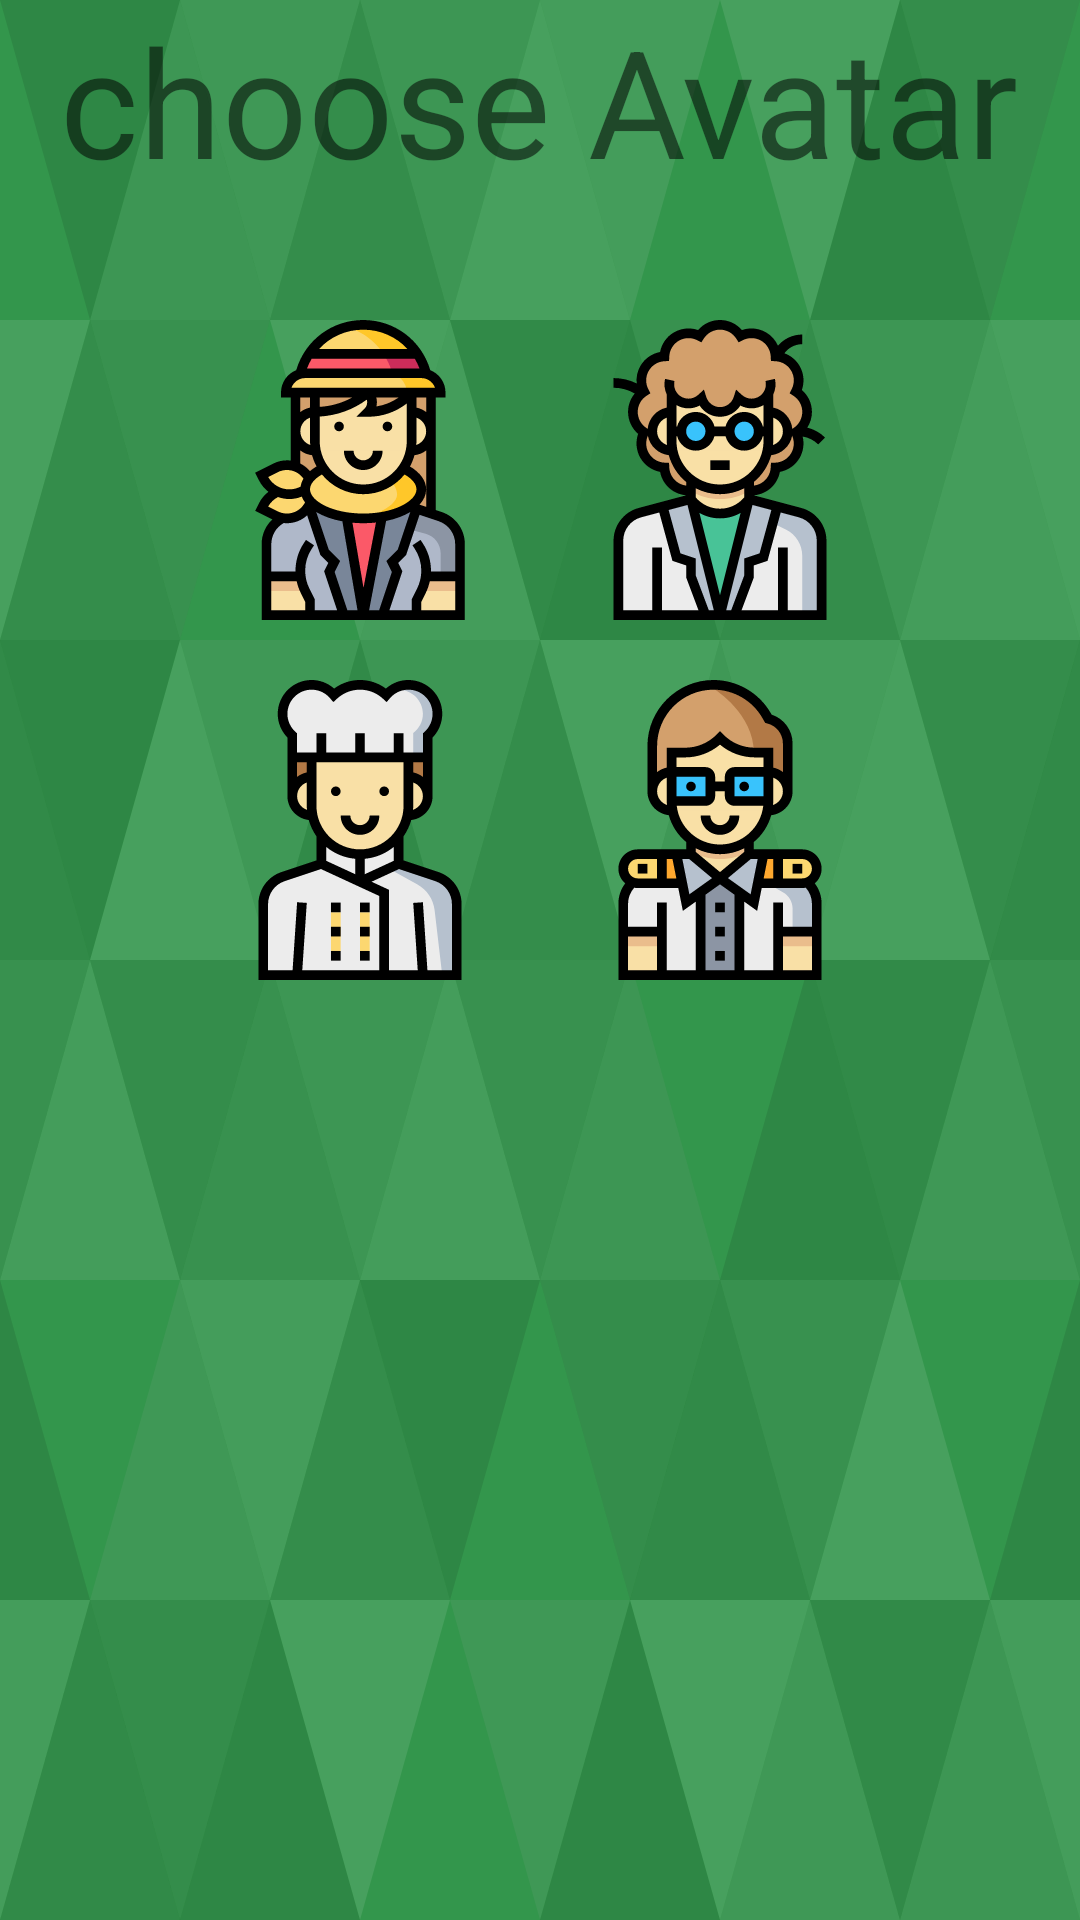

Icon click points for this 1080×1920 phone screenshot, format point (x, y):
character: point (360, 470), point (720, 470), point (360, 830), point (720, 830)
